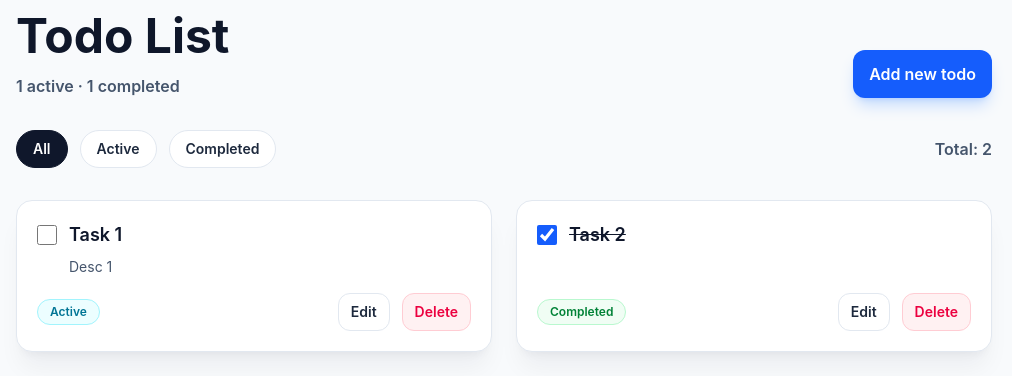
Test case: TodoList › should filter todos by active status
Check: the heading "Task 1" is shown, box [69,224,122,245]
Click the button with aria-label "show active todos". click: (118,149)
box: [80,130,156,168]
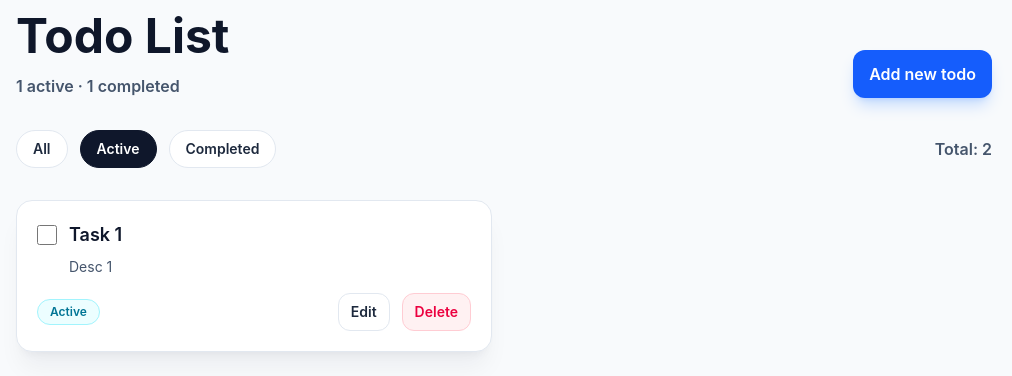
Check: the heading "Task 1" is shown, box [69,224,122,245]
Check: the heading "Task 2" is gone
